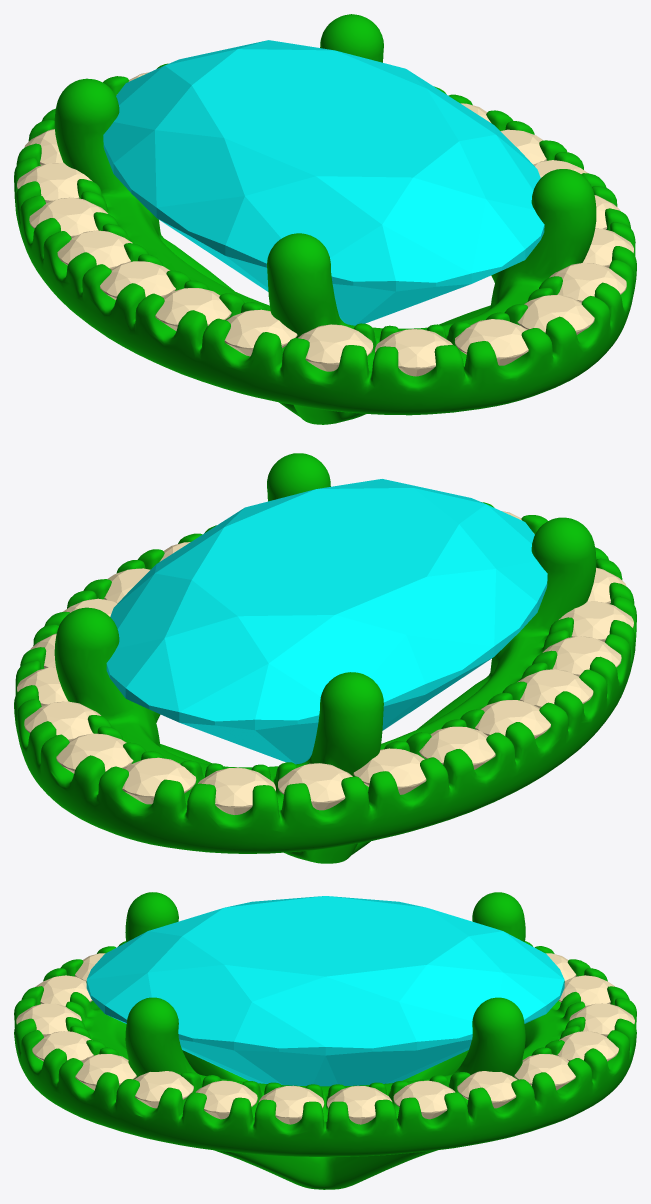
The picture shows the model from 3 angles, top to bottom: view 1: azimuth 30°, elevation 25°; view 2: azimuth 150°, elevation 25°; view 3: azimuth 270°, elevation 25°; orthographic projection. The views are drawn at different scales.
Visible parts, largest first — view 1: Diamond_Oval, Metal01, Diamond_Round.007, Diamond_Round.008, Diamond_Round.009, Diamond_Round.011, Diamond_Round.006, Diamond_Round.010, Diamond_Round.012, Diamond_Round.013, Diamond_Round.014, Diamond_Round.005 (+4 smaller); view 2: Diamond_Oval, Metal01, Diamond_Round.018, Diamond_Round.017, Diamond_Round.016, Diamond_Round.014, Diamond_Round.019, Diamond_Round.015, Diamond_Round.013, Diamond_Round.012, Diamond_Round.011, Diamond_Round.020 (+4 smaller); view 3: Diamond_Oval, Metal01, Diamond_Round.003, Diamond_Round, Diamond_Round.001, Diamond_Round.002, Diamond_Round.021, Diamond_Round.004, Diamond_Round.020, Diamond_Round.005, Diamond_Round.019, Diamond_Round.006 (+4 smaller).
Part boxes in pixels (left/top/right/bottom): Diamond_Oval: left=103, top=40, right=544, bottom=325; Metal01: left=14, top=14, right=636, bottom=424; Diamond_Round.007: left=455, top=319, right=528, bottom=365; Diamond_Round.008: left=375, top=329, right=452, bottom=376; Diamond_Round.009: left=298, top=324, right=373, bottom=371; Diamond_Round.011: left=155, top=288, right=231, bottom=330; Diamond_Round.006: left=517, top=295, right=594, bottom=334; Diamond_Round.010: left=224, top=309, right=297, bottom=356; Diamond_Round.012: left=100, top=261, right=175, bottom=299; Diamond_Round.013: left=57, top=230, right=132, bottom=269; Diamond_Round.014: left=29, top=197, right=107, bottom=237; Diamond_Round.005: left=549, top=262, right=626, bottom=302; Diamond_Oval: left=106, top=479, right=547, bottom=764; Metal01: left=14, top=453, right=636, bottom=863; Diamond_Round.018: left=122, top=757, right=196, bottom=804; Diamond_Round.017: left=198, top=767, right=275, bottom=814; Diamond_Round.016: left=278, top=763, right=352, bottom=810; Diamond_Round.014: left=419, top=726, right=495, bottom=769; Diamond_Round.019: left=56, top=733, right=133, bottom=773; Diamond_Round.015: left=353, top=748, right=426, bottom=794; Diamond_Round.013: left=475, top=700, right=550, bottom=738; Diamond_Round.012: left=517, top=669, right=593, bottom=708; Diamond_Round.011: left=542, top=636, right=621, bottom=676; Diamond_Round.020: left=24, top=701, right=100, bottom=741; Diamond_Oval: left=86, top=896, right=564, bottom=1086; Metal01: left=14, top=892, right=636, bottom=1189; Diamond_Round.003: left=195, top=1080, right=257, bottom=1119; Diamond_Round: left=393, top=1080, right=455, bottom=1119; Diamond_Round.001: left=327, top=1085, right=392, bottom=1124; Diamond_Round.002: left=259, top=1085, right=324, bottom=1124; Diamond_Round.021: left=457, top=1071, right=517, bottom=1108; Diamond_Round.004: left=134, top=1071, right=193, bottom=1108; Diamond_Round.020: left=514, top=1054, right=575, bottom=1090; Diamond_Round.005: left=75, top=1054, right=136, bottom=1090; Diamond_Round.019: left=557, top=1031, right=618, bottom=1061; Diamond_Round.006: left=32, top=1031, right=93, bottom=1061.
Size of the model in its own units: 11.43 by 6.66 by 15.25.
